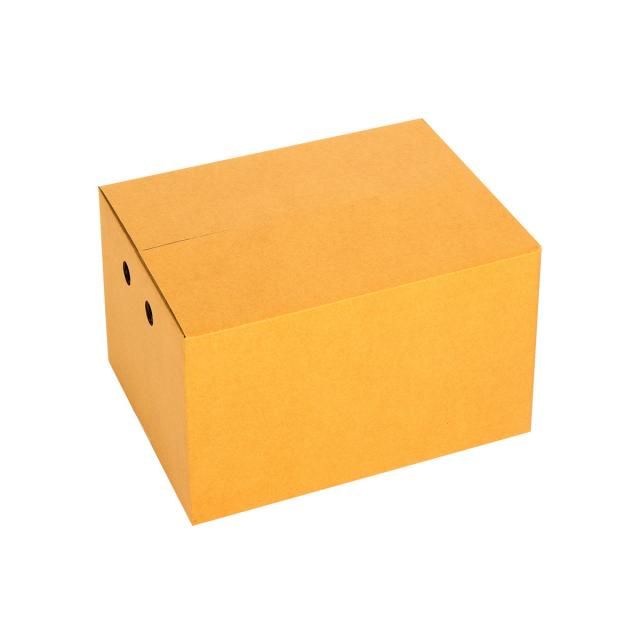box: (61, 95, 562, 540)
